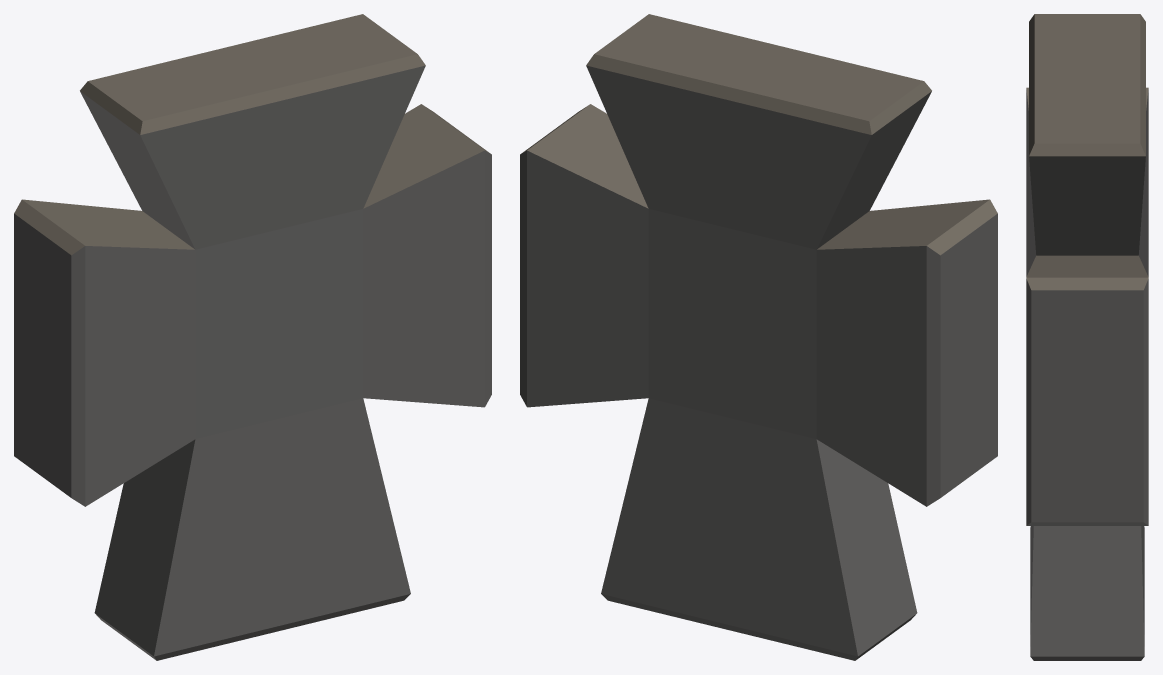
The model's file is cross_stone.fbx.
3 renders of one model, left to right at view 1: azimuth 30°, elevation 25°; view 2: azimuth 150°, elevation 25°; view 3: azimuth 270°, elevation 25°, orthographic. The views are drawn at different scales.
Parts seen in each view (by area): view 1: stone cross; view 2: stone cross; view 3: stone cross.
Part boxes in pixels (box(x1,y1,x2,y2)): stone cross: box(14, 14, 491, 660); stone cross: box(520, 14, 997, 660); stone cross: box(1026, 14, 1148, 660).
Bounding box in the file's own units: 185 × 228 × 48.45.
